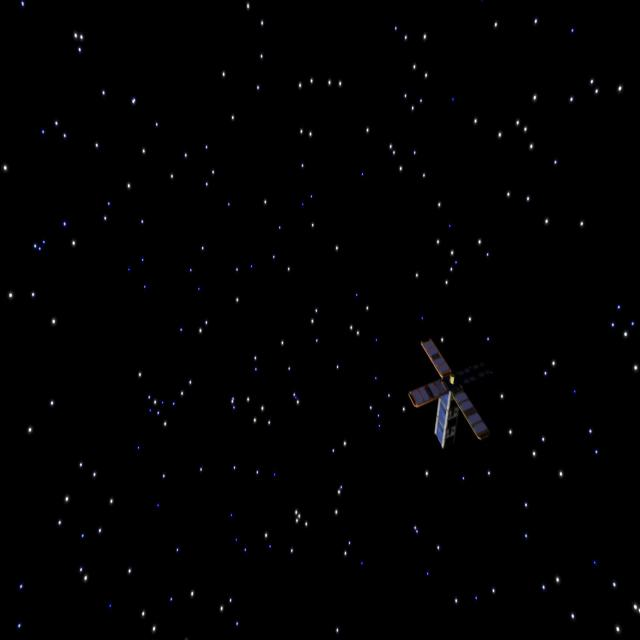medium_debris: (389, 326, 494, 448)
